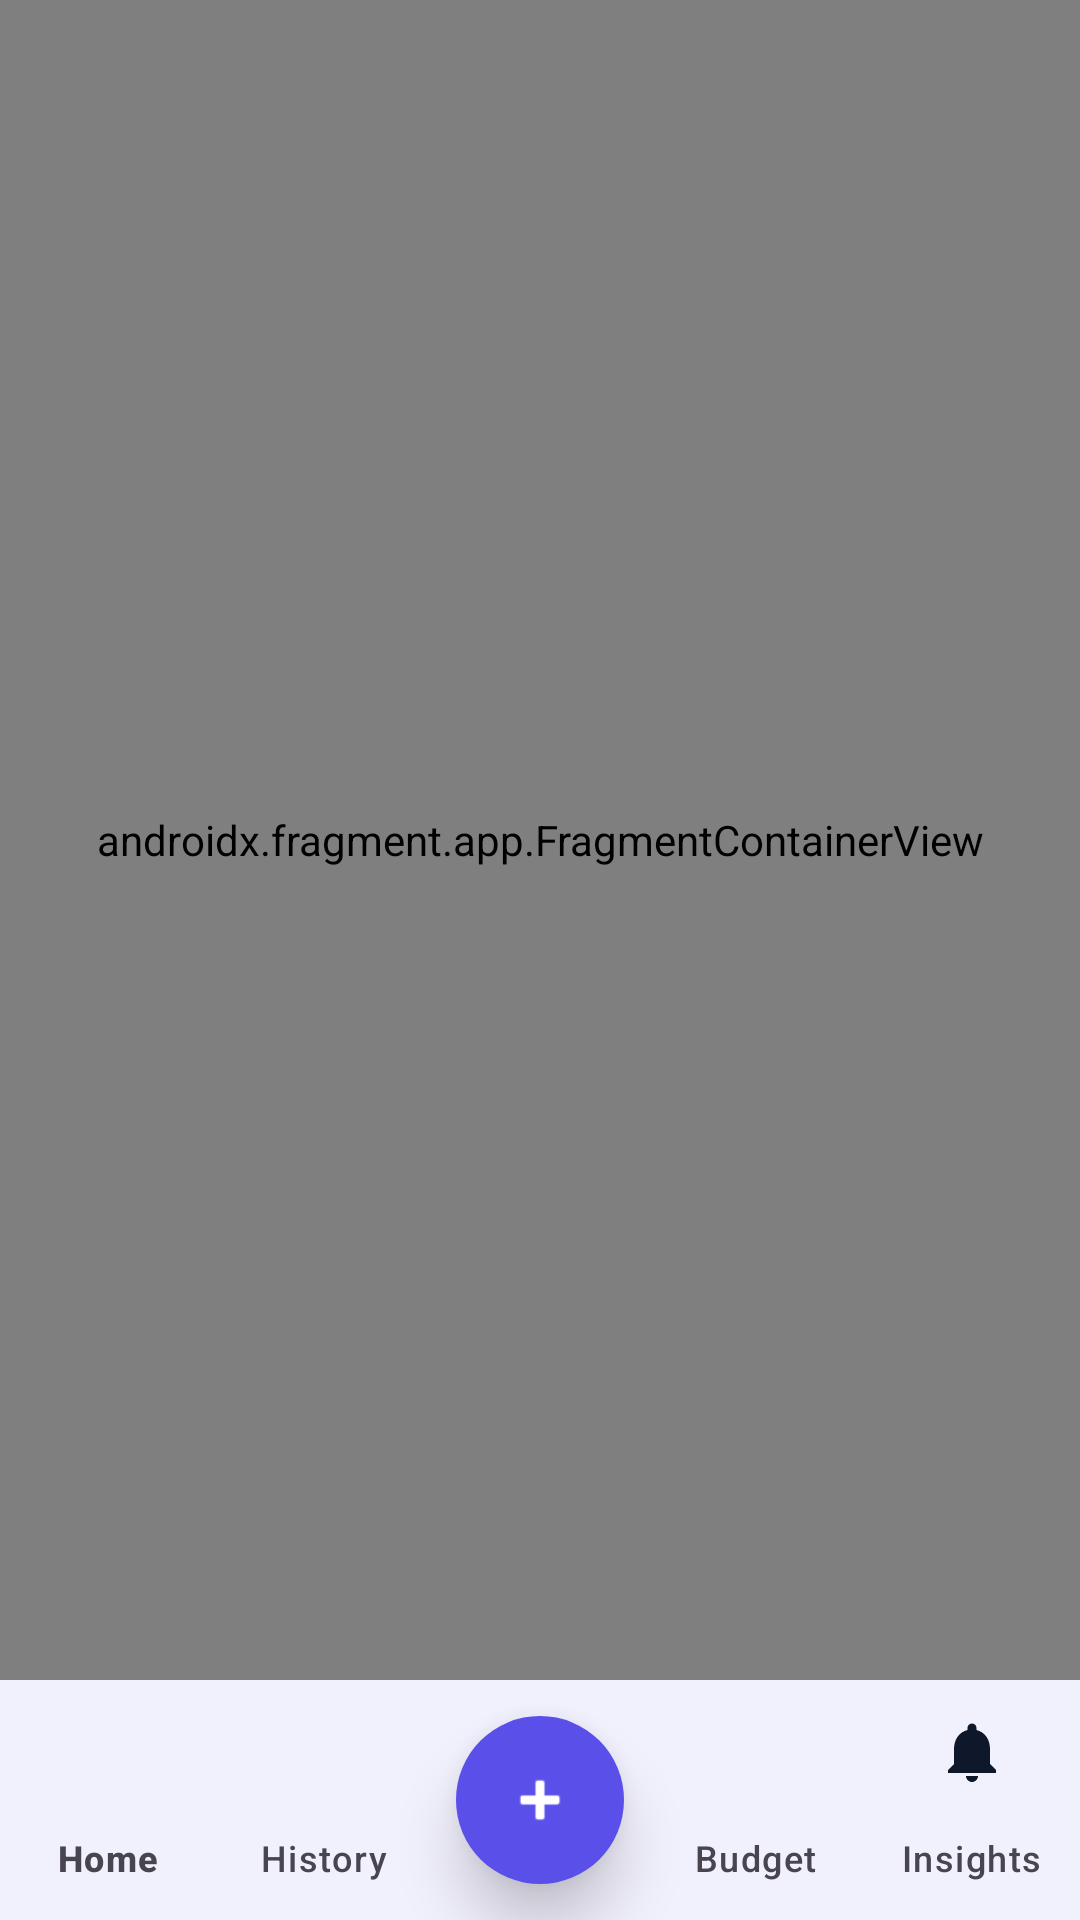

Icons on this 1080x1920 Android screen, each with its box as {"left": x1, "top": y1, "right": x2, "bottom": y2}:
Add transaction: {"left": 456, "top": 1716, "right": 624, "bottom": 1884}
